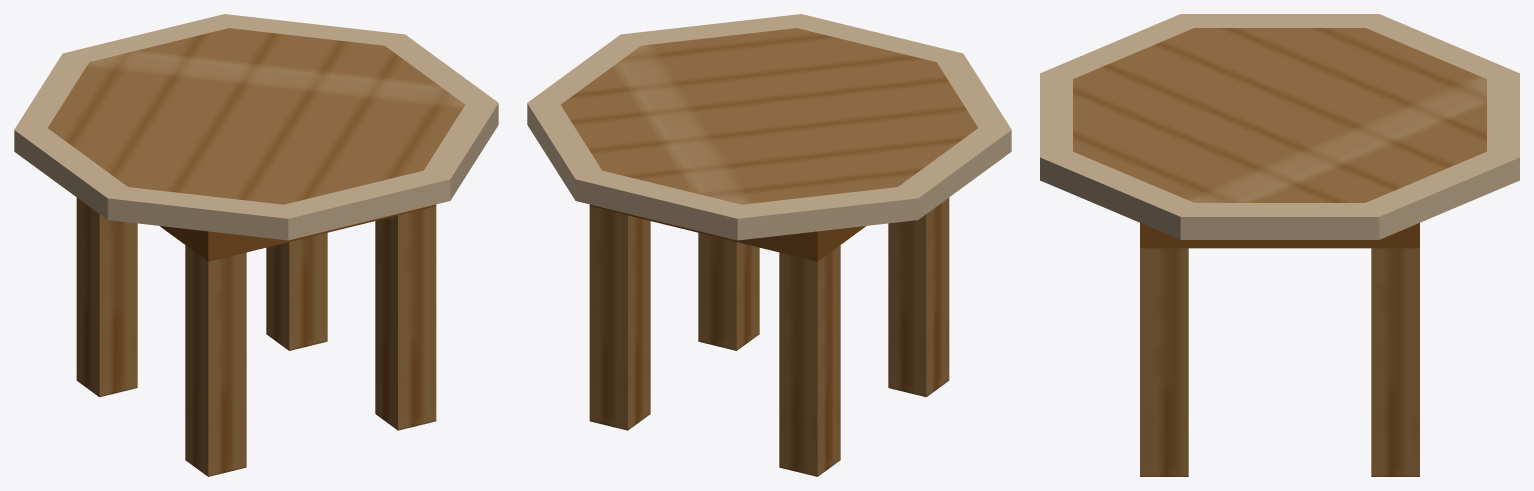
The model's file is wood_round_table.glb.
3 renders of one model, left to right at view 1: azimuth 30°, elevation 25°; view 2: azimuth 150°, elevation 25°; view 3: azimuth 270°, elevation 25°, orthographic. The views are drawn at different scales.
Visible parts, largest first — view 1: Wood_Round_Table; view 2: Wood_Round_Table; view 3: Wood_Round_Table.
Boxes of the visible parts, left/top/right/bottom form: Wood_Round_Table: left=14, top=14, right=498, bottom=476; Wood_Round_Table: left=527, top=14, right=1011, bottom=476; Wood_Round_Table: left=1040, top=14, right=1519, bottom=476.
Bounding box in the file's own units: 1.89 × 1.31 × 1.89.
1 material, 1 textured.
